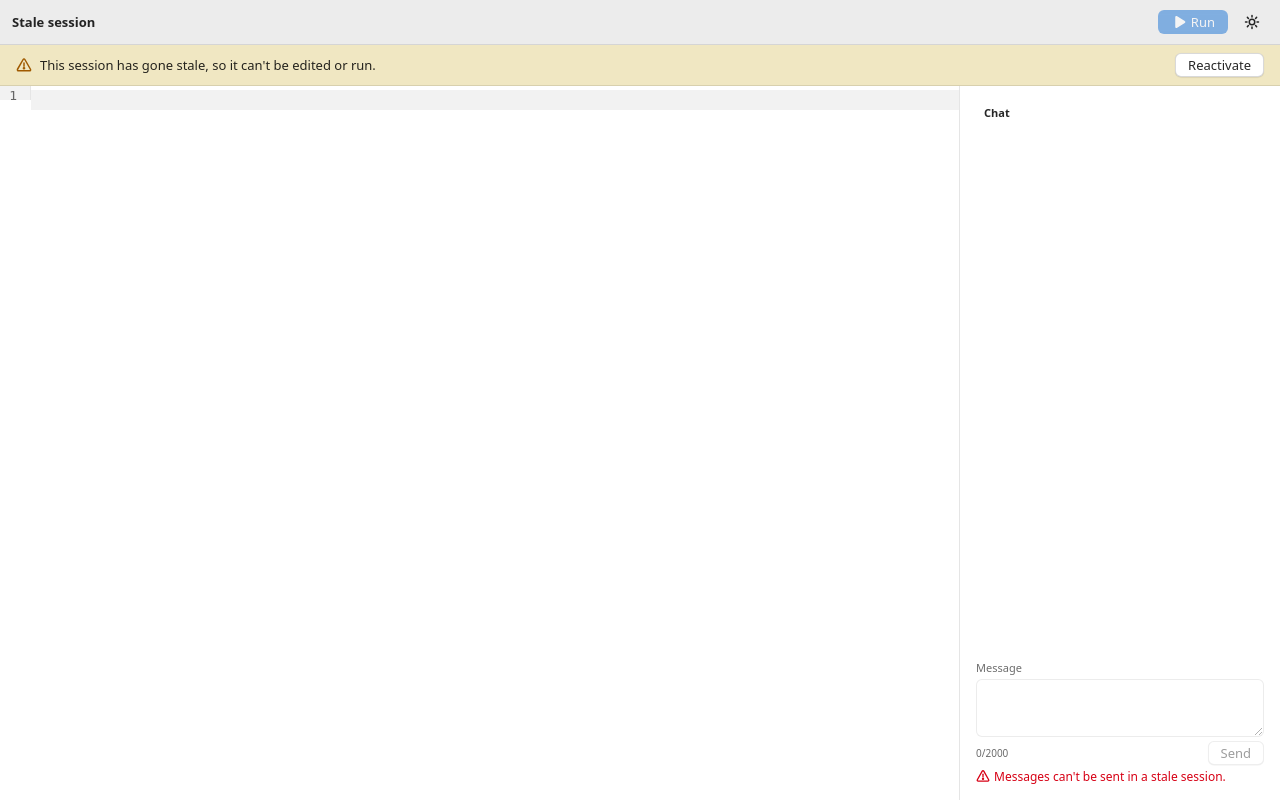
Test: SessionWindow, stale (spec 003 FR-12) › AC-13: with can_reactivate, Reactivate is inside the banner; success clears it and shows a Hud
Click the button "Reactivate": (1220, 65) [1175,53,1264,77]
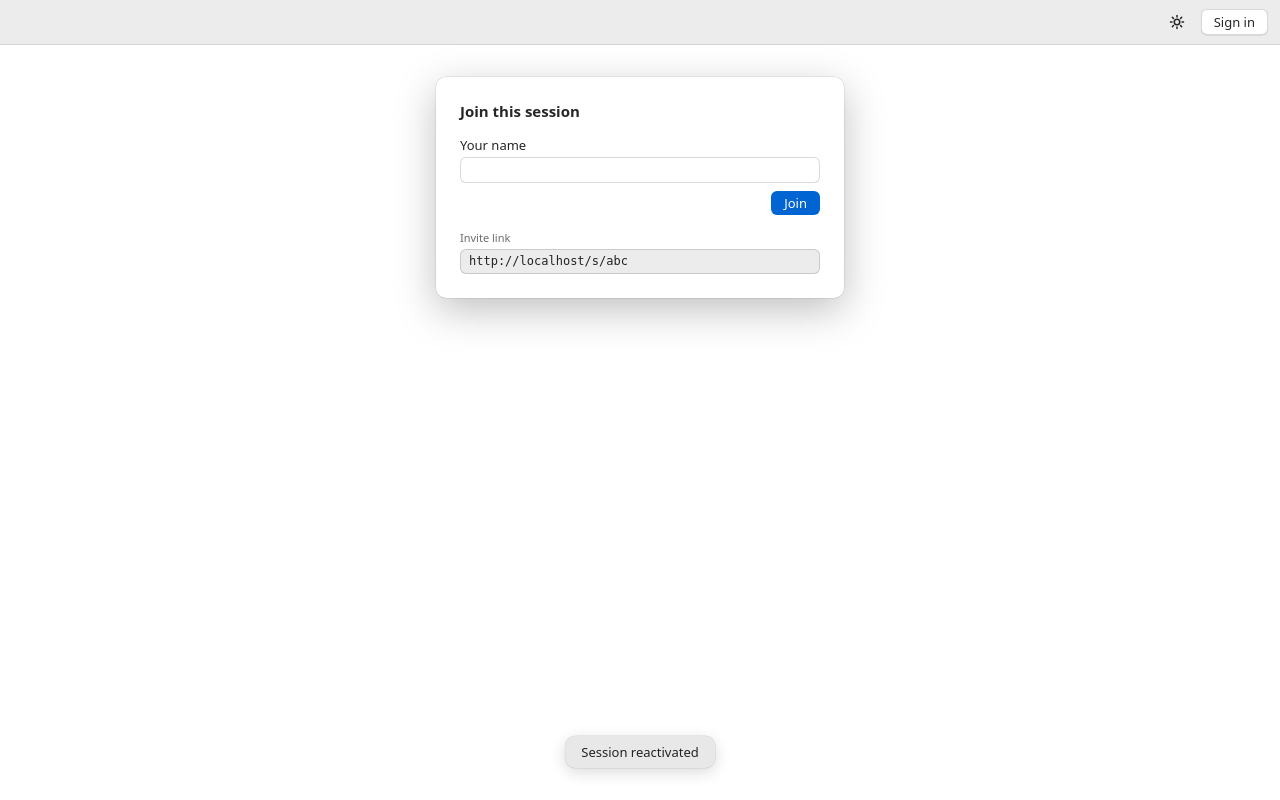
Expected: the field labelled "Your name" is shown, [460,157,820,183]
Expected: the text "gone stale" is gone
Expected: the message reads "Session reactivated", [581,743,699,761]
